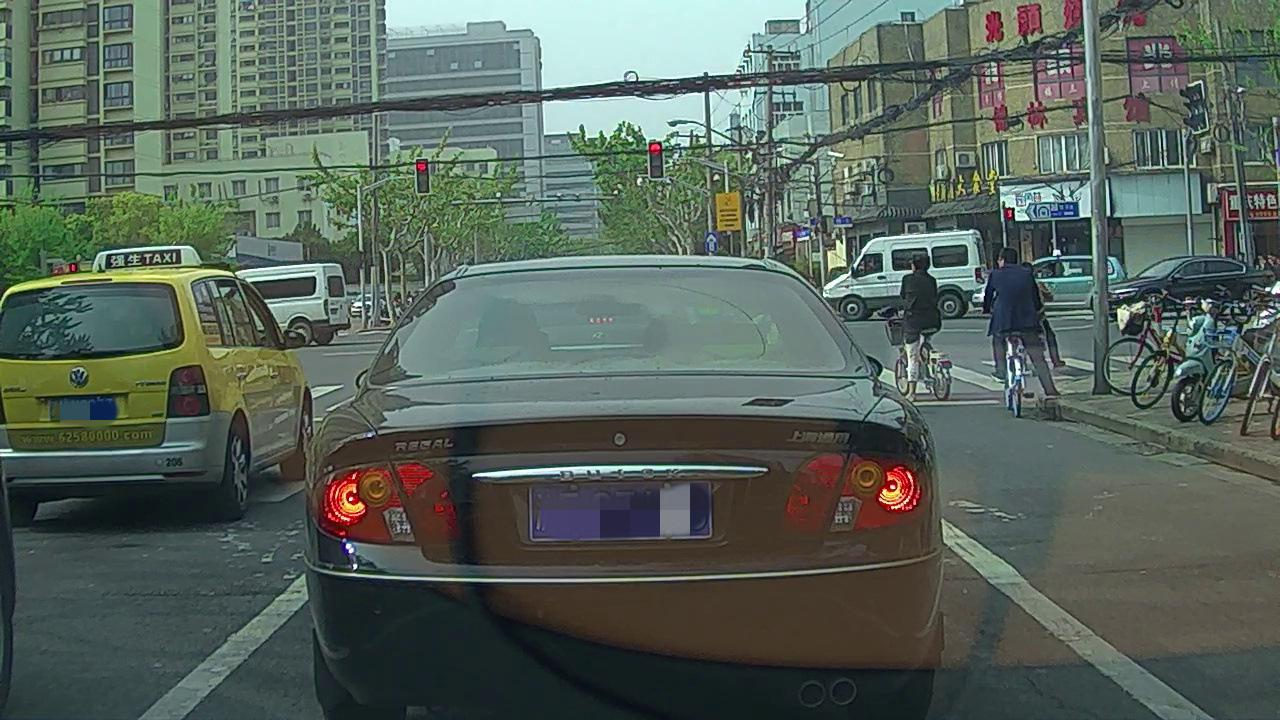traffic_light: (648, 142, 664, 180), (416, 158, 428, 192)
